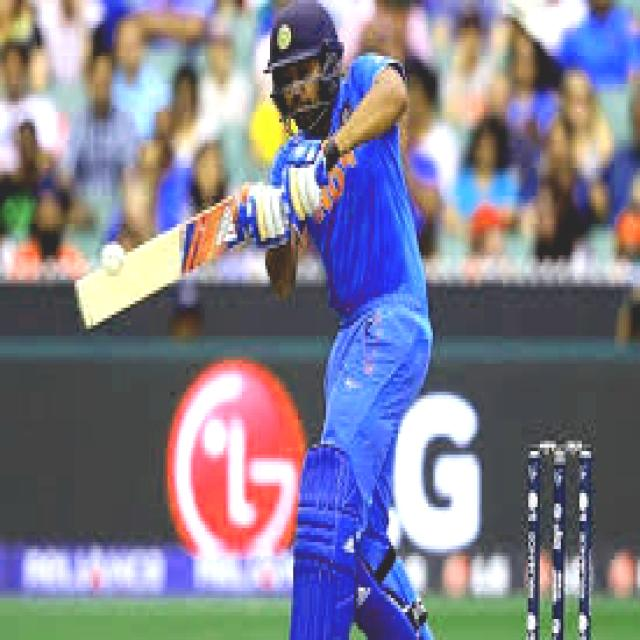toe: (60, 275, 108, 335)
